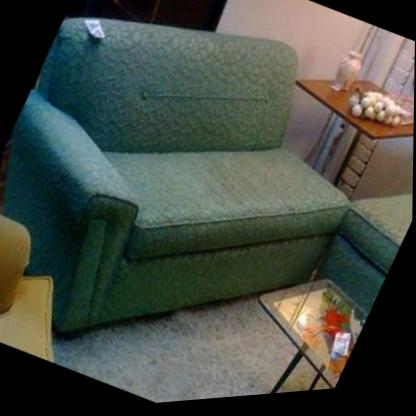Carpet: (52, 303, 333, 406)
Sofa: (0, 0, 416, 416)
Table: (199, 243, 383, 403)
